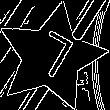L_SW: (25, 27, 78, 87)
